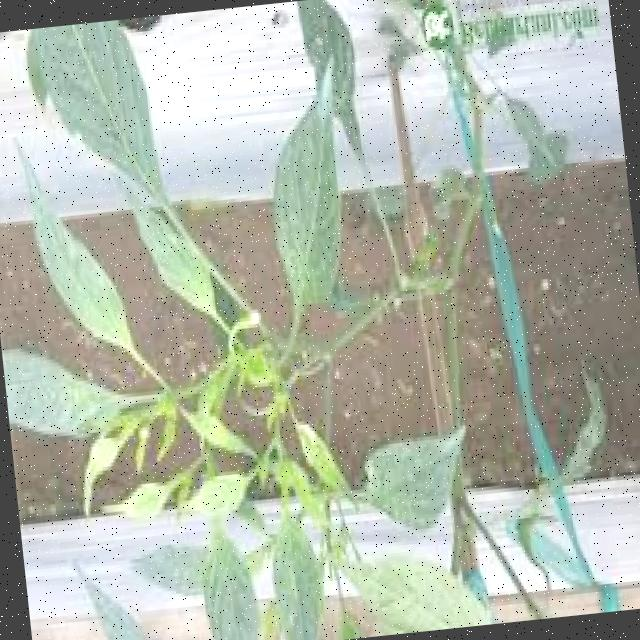healthy: (57, 2, 467, 640)
